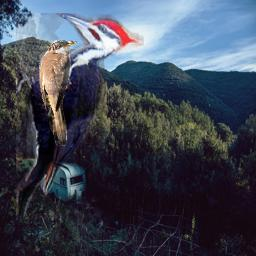Cuckoo: (39, 40, 77, 146)
Woodpecker: (16, 13, 144, 225)
